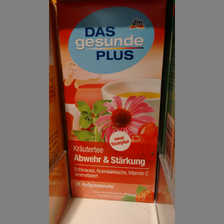tea: (55, 1, 167, 203)
